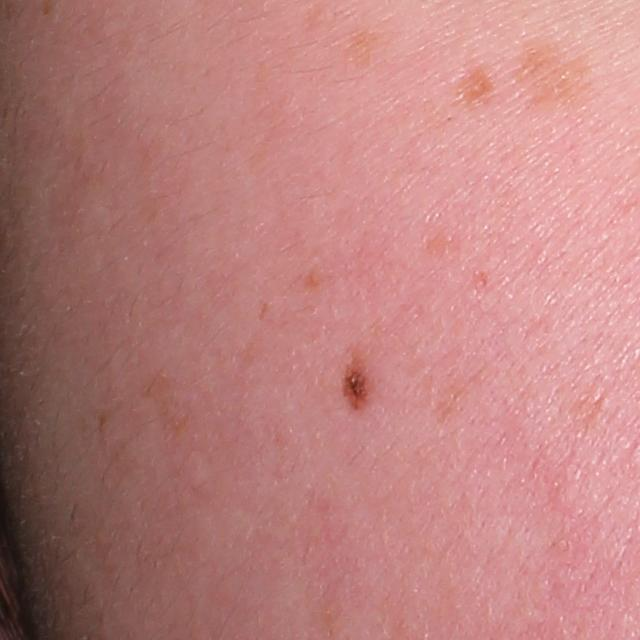melasma: (509, 45, 599, 125), (441, 49, 488, 111), (408, 373, 460, 428), (559, 386, 608, 432), (337, 28, 375, 69)
nevus: (334, 370, 364, 415)
